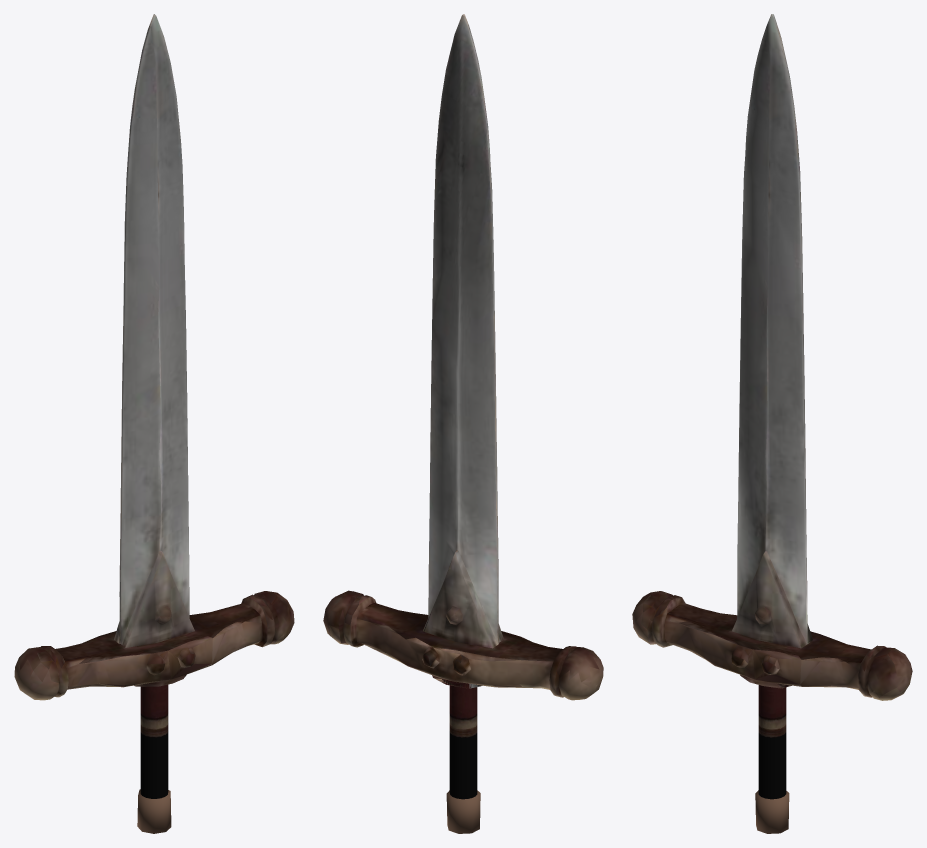
File: longsword.part.glb
3 renders of one model, left to right at view 1: azimuth 30°, elevation 25°; view 2: azimuth 150°, elevation 25°; view 3: azimuth 330°, elevation 25°, orthographic.
Visible parts, largest first — view 1: WeaponDrawn; view 2: WeaponDrawn; view 3: WeaponDrawn.
Part boxes in pixels (x1,y1,x2,y2): WeaponDrawn: (14, 14, 294, 833); WeaponDrawn: (323, 14, 603, 833); WeaponDrawn: (632, 14, 912, 833).
Size of the model in its own units: 0.3373 by 0.9652 by 0.09.
Materials: 2 (2 with a texture image).
